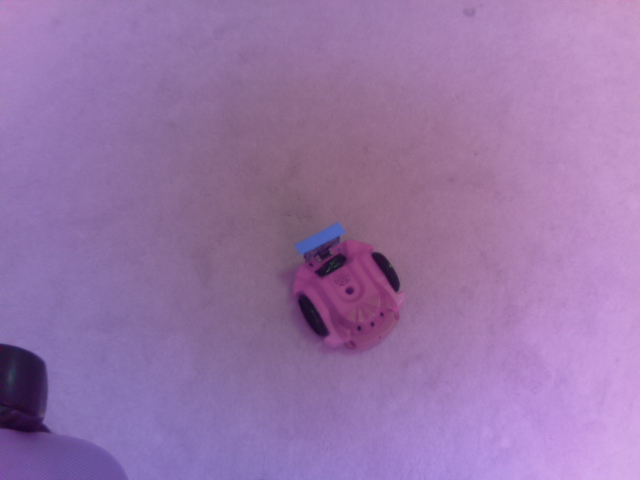board: (297, 224, 349, 259)
chassis: (286, 212, 409, 354)
